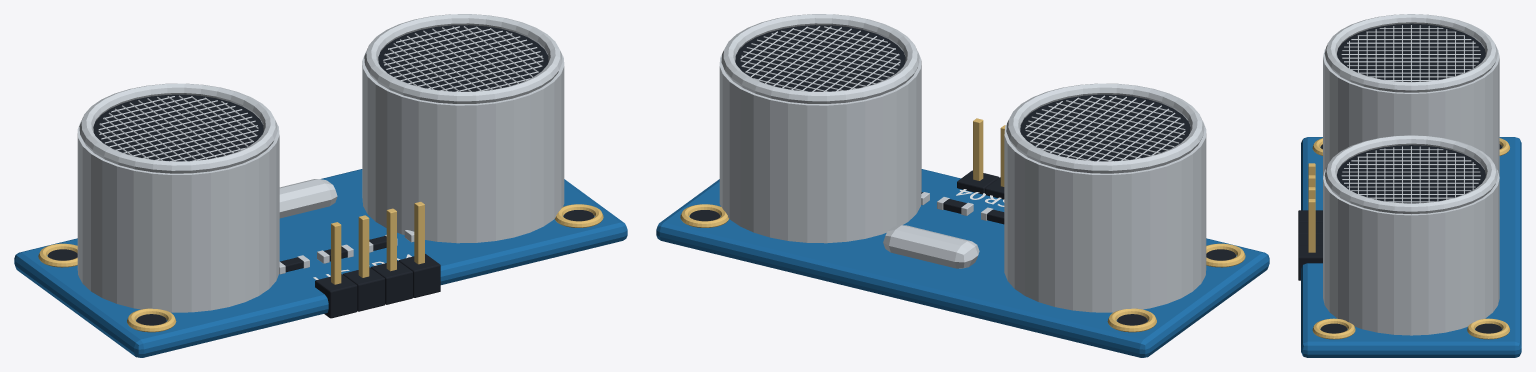
File: ultrasonic-sensor.glb
3 renders of one model, left to right at view 1: azimuth 30°, elevation 25°; view 2: azimuth 150°, elevation 25°; view 3: azimuth 270°, elevation 25°, orthographic. The views are drawn at different scales.
Visible parts, largest first — view 1: Static body • silver, Static body • blue, Static body • black, Static body • gold; view 2: Static body • silver, Static body • blue, Static body • black, Static body • gold; view 3: Static body • silver, Static body • black, Static body • blue, Static body • gold.
Part boxes in pixels (x1,y1,x2,y2): Static body • silver: (77,14,564,312); Static body • blue: (14,169,627,357); Static body • black: (48,25,593,325); Static body • gold: (38,201,603,332); Static body • silver: (719,14,1206,312); Static body • blue: (656,169,1269,357); Static body • black: (690,25,1235,325); Static body • gold: (680,118,1245,332); Static body • silver: (1323,14,1499,335); Static body • black: (1298,23,1501,333); Static body • blue: (1301,137,1521,357); Static body • gold: (1308,138,1509,339).
Size of the model in its own units: 45 by 14.85 by 20.25.
